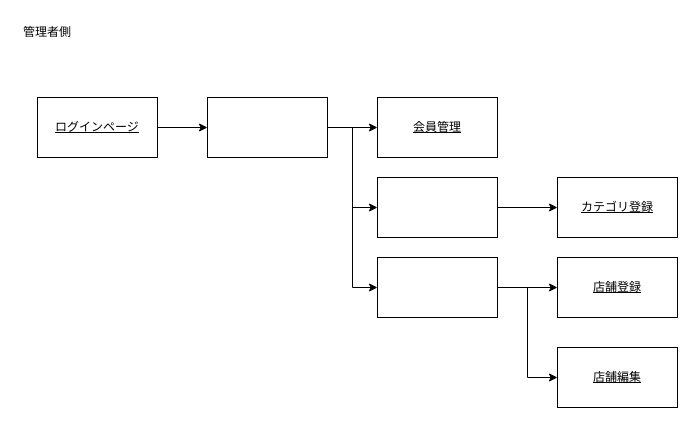
Image size: 695x425. Some labels were removed from this diagram. The shapes that lost their labels are listed below. From the top down, each one's centre as x and y in pixels, then its label:
At (x=267, y=127): "トップページ".
At (x=437, y=207): "カテゴリ管理".
At (x=437, y=287): "店舗管理".
